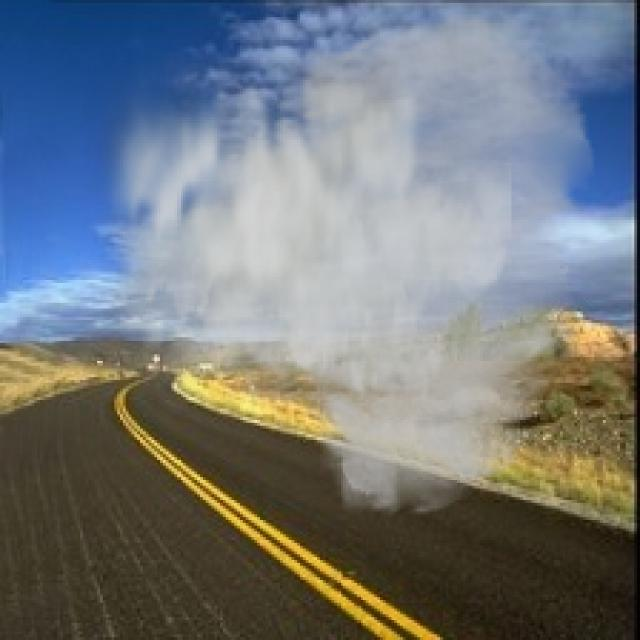smoke: (83, 0, 597, 520)
